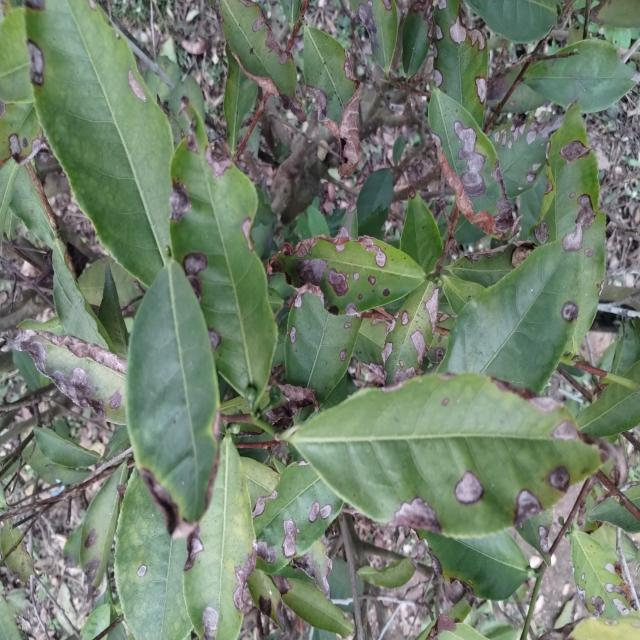Leaf: (284, 373, 601, 537), (25, 0, 173, 285), (170, 115, 277, 400), (125, 259, 219, 537), (439, 240, 585, 392), (542, 105, 606, 352), (183, 436, 256, 640), (428, 88, 519, 239), (270, 230, 426, 315), (115, 469, 192, 640), (8, 329, 126, 424), (219, 0, 305, 121), (253, 462, 343, 570), (303, 25, 361, 176), (285, 290, 361, 403), (524, 38, 640, 112), (418, 530, 533, 600), (433, 0, 488, 124), (52, 239, 111, 350), (80, 462, 127, 600), (382, 281, 438, 385), (570, 529, 631, 620), (490, 118, 555, 198), (271, 575, 353, 636), (11, 163, 59, 248), (444, 242, 534, 287), (465, 0, 557, 43), (224, 46, 258, 153), (350, 0, 398, 73), (400, 192, 443, 273), (575, 384, 640, 437), (77, 257, 141, 307), (0, 7, 33, 103), (98, 263, 128, 358), (0, 102, 42, 167), (25, 444, 91, 484), (35, 428, 100, 468), (356, 168, 393, 238), (168, 76, 204, 144), (247, 569, 288, 628), (145, 37, 181, 102), (588, 496, 640, 532), (402, 10, 429, 78), (518, 511, 552, 564), (357, 557, 415, 588), (442, 275, 485, 315), (0, 162, 18, 247), (5, 542, 33, 582), (81, 604, 110, 640), (0, 519, 22, 557), (625, 485, 640, 510), (625, 361, 640, 381)
